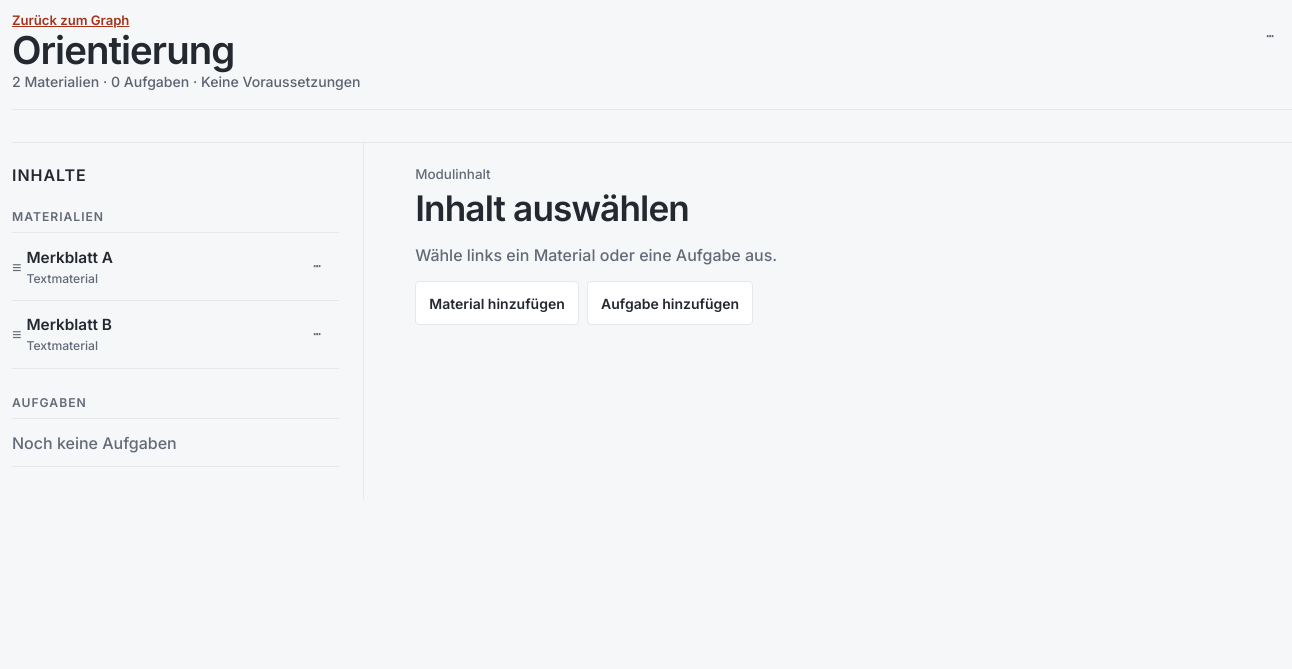
teacher node editor page › marks only the material whose saved values were changed
This screenshot has width=1292, height=669.
Click the button "≡ Merkblatt A Textmaterial": {"x": 70, "y": 257} [12,233,295,300]
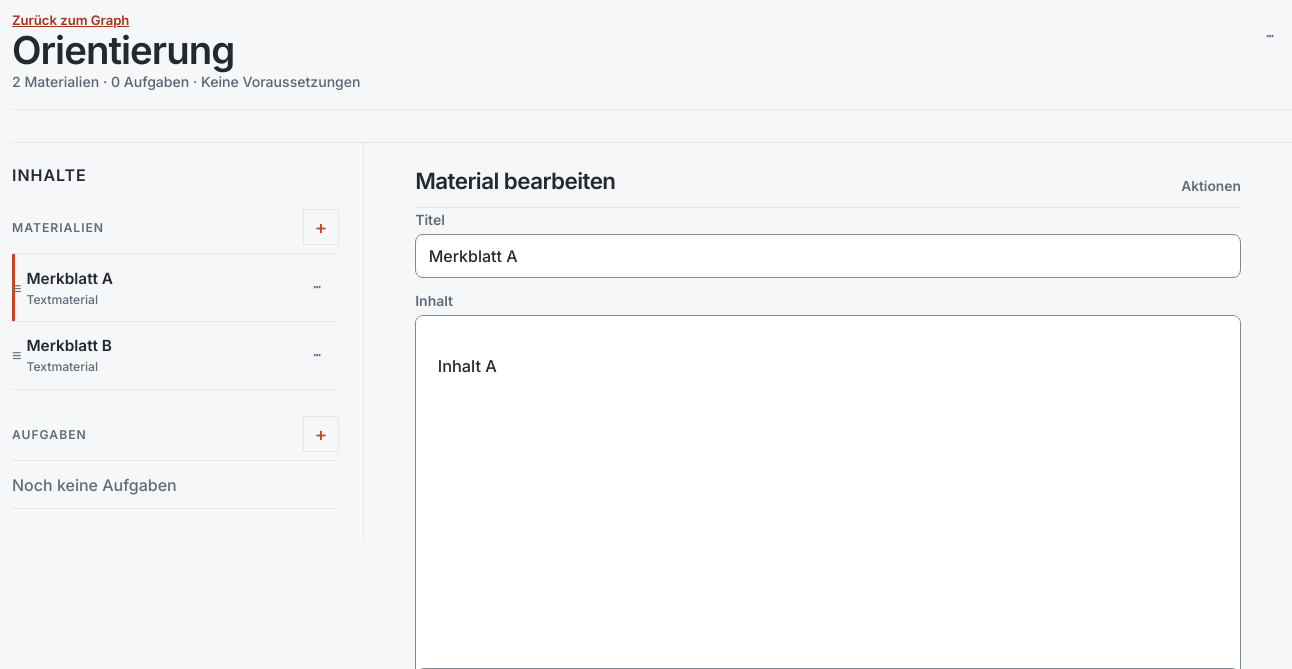
Replace the text in the field labelled "Titel" with "Merkblatt A geändert": {"x": 828, "y": 256} [415,234,1241,278]
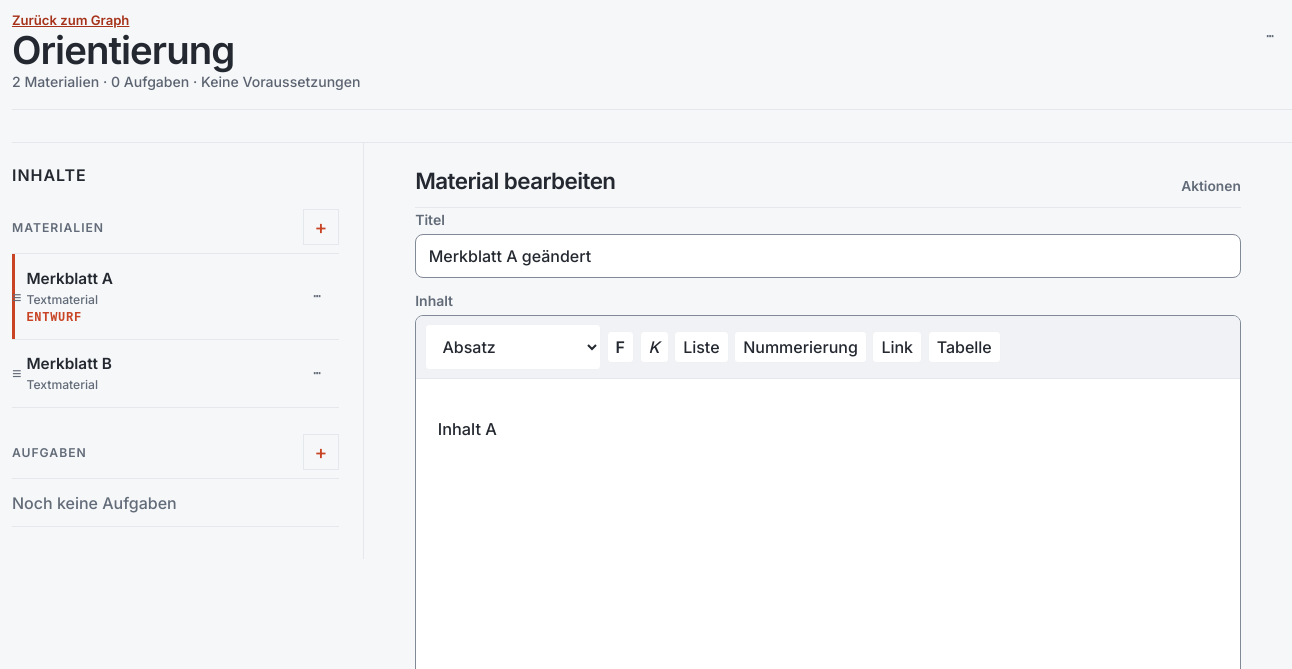
expect the text "Entwurf" is shown: met, box [26,311,82,325]
